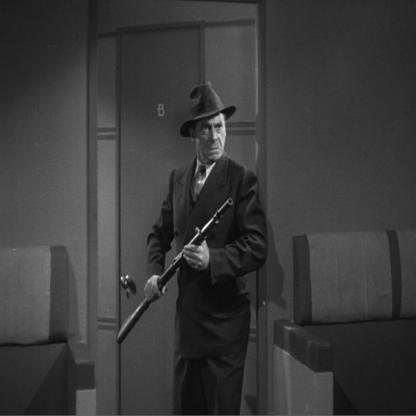gun: (92, 181, 252, 389)
